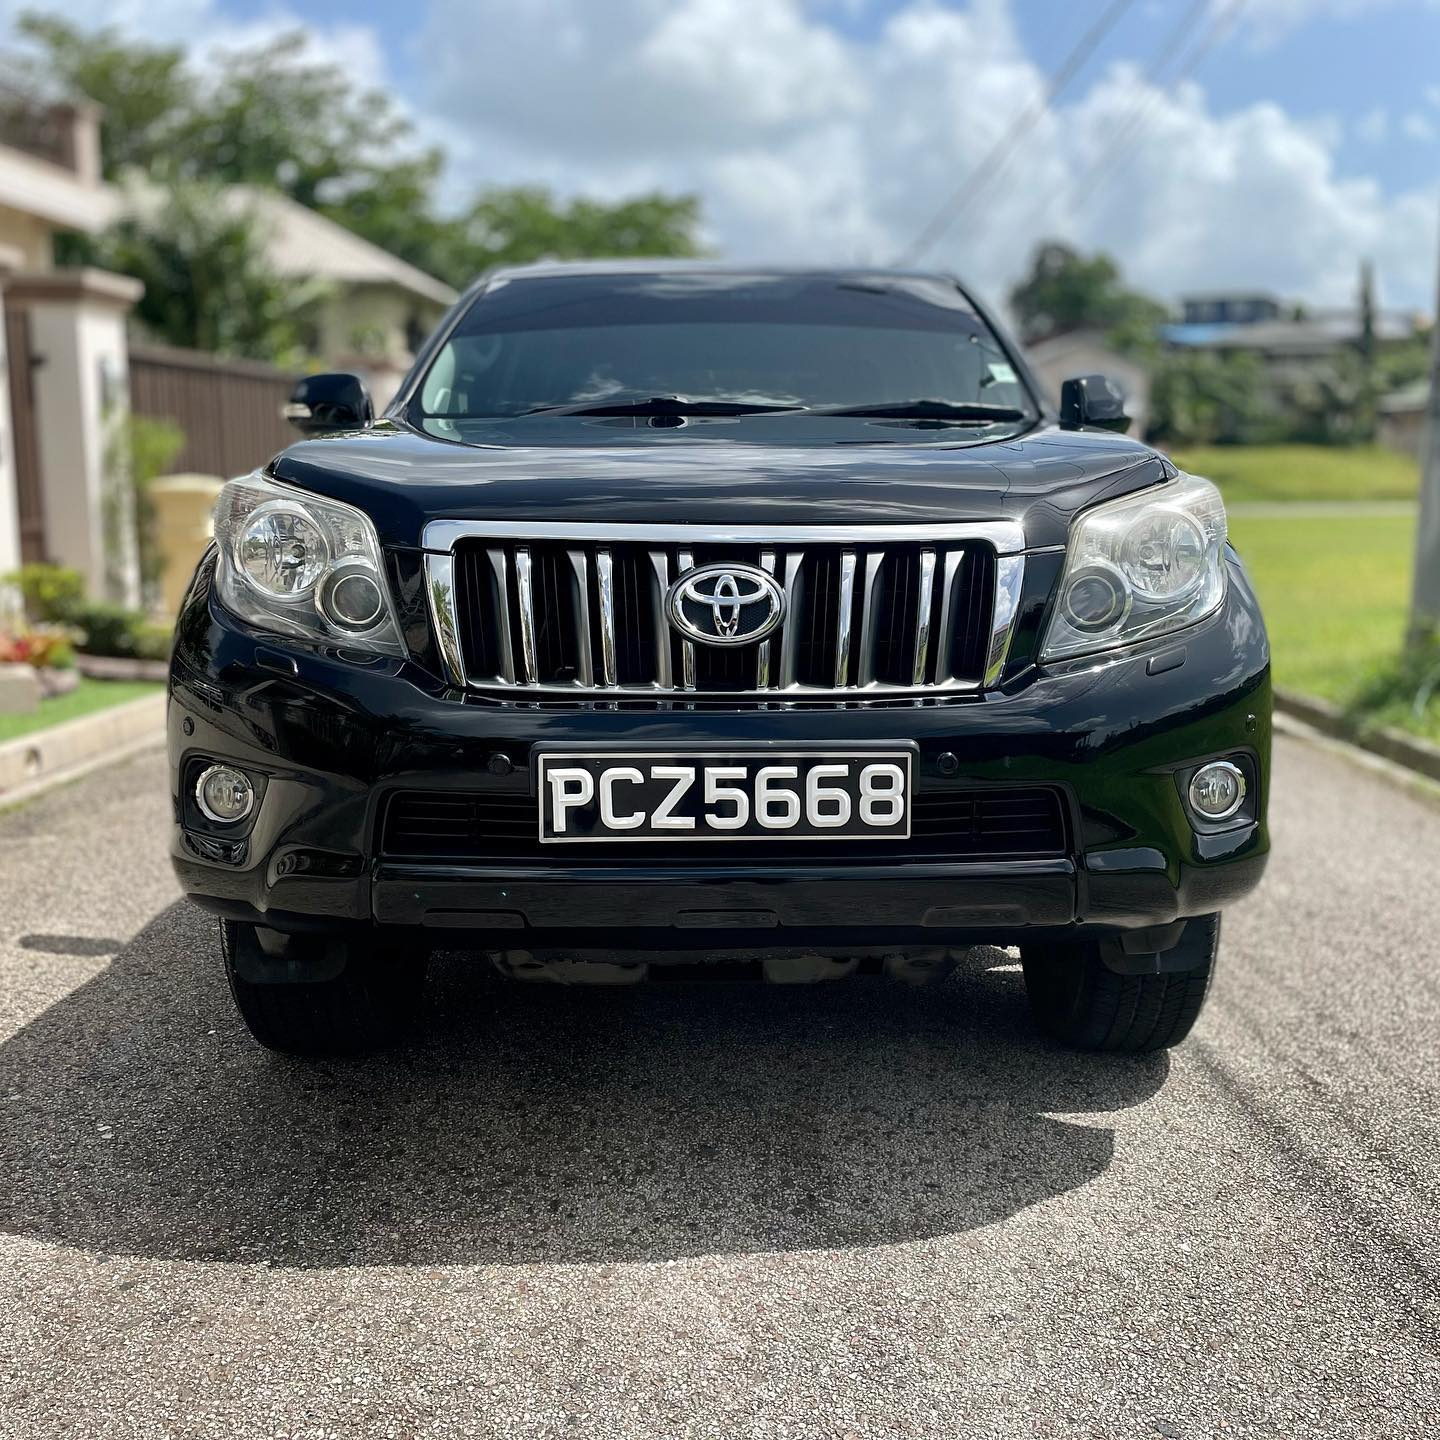License-Plate: (540, 756, 908, 838)
